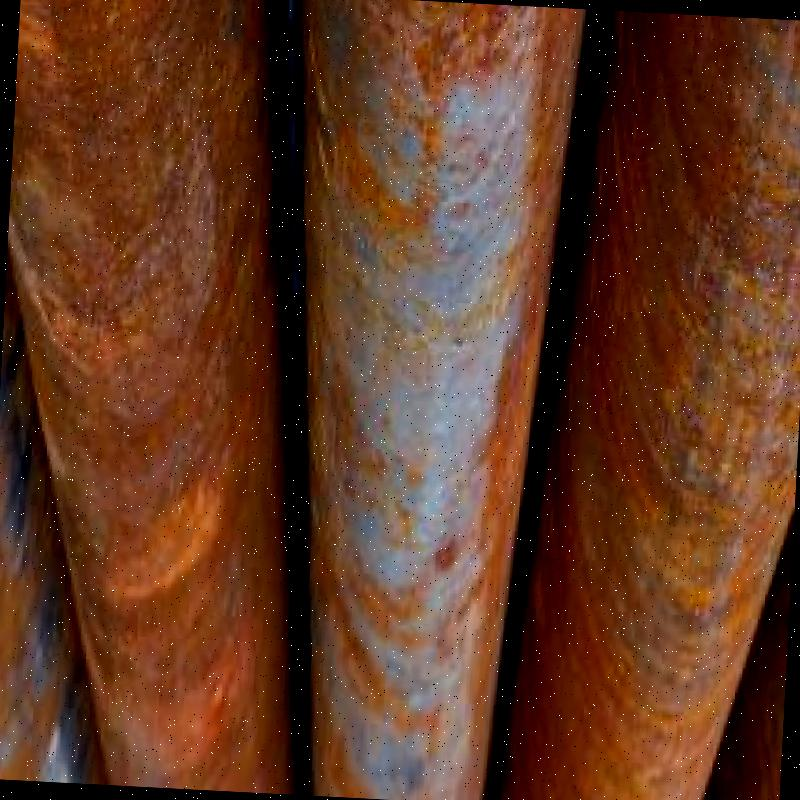corrosion: (0, 518, 772, 800), (0, 4, 330, 561), (537, 11, 800, 552)
